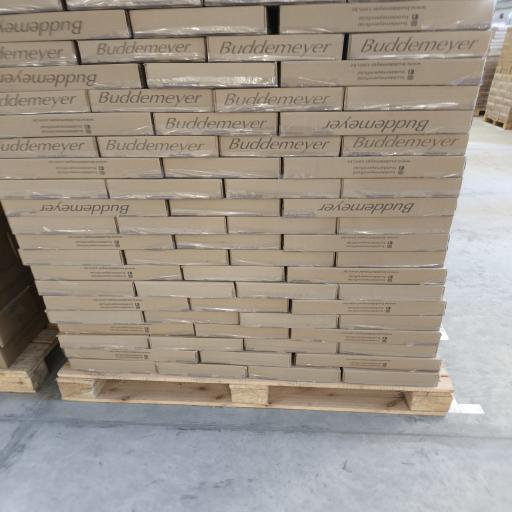pallet: (57, 363, 453, 415), (0, 329, 57, 392), (484, 116, 511, 129), (474, 110, 485, 116)
